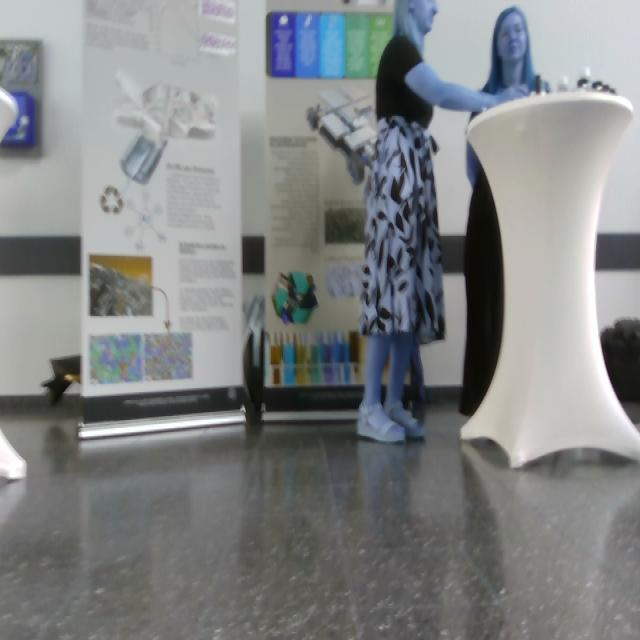door: (263, 1, 639, 413)
light bulb: (114, 68, 218, 185), (1, 84, 28, 481), (1, 85, 20, 148)
person: (356, 1, 531, 444)
pillar: (459, 89, 640, 469)
tiled floor: (1, 391, 639, 639)
